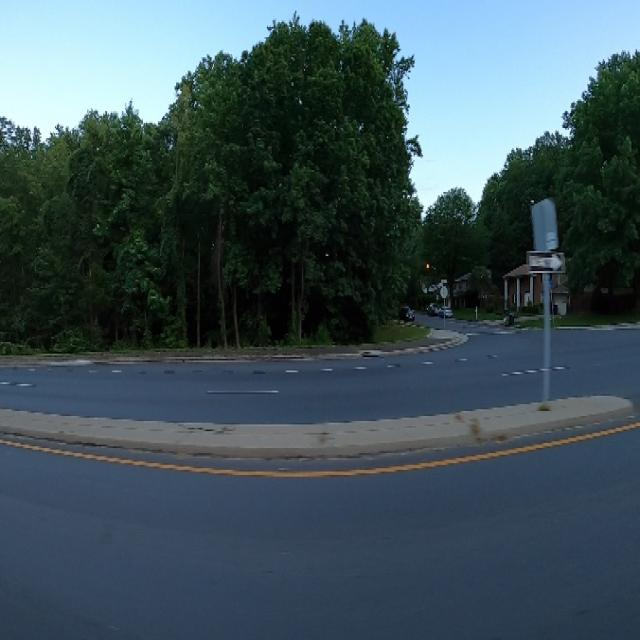cars: (395, 300, 417, 327), (427, 297, 441, 320), (441, 302, 454, 321)
